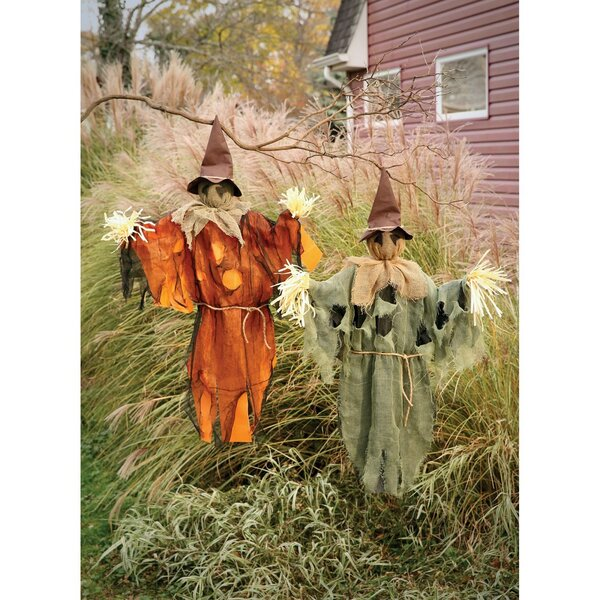person-like: (278, 163, 507, 505), (111, 111, 323, 452)
